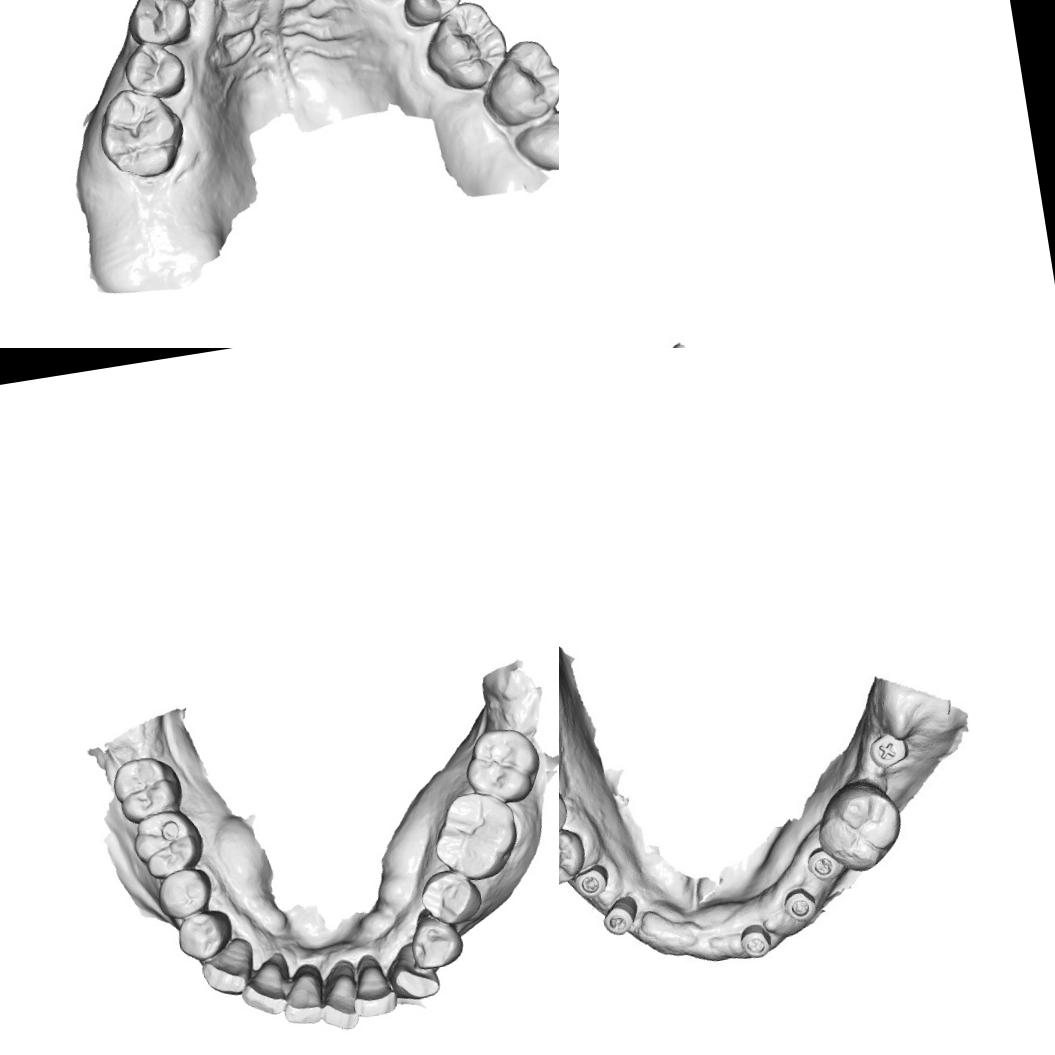canine: (381, 941, 446, 1007), (196, 934, 260, 1001)
implant: (804, 846, 846, 887), (599, 898, 638, 936), (739, 923, 774, 959), (785, 888, 815, 922), (577, 868, 607, 896)
implant_plus: (868, 731, 911, 773)
incisor: (345, 953, 402, 1022), (236, 953, 292, 1020), (314, 963, 365, 1035), (276, 966, 328, 1028)
molar: (424, 782, 526, 889), (90, 79, 192, 184), (814, 775, 906, 877), (417, 0, 513, 97), (456, 720, 548, 810), (475, 33, 559, 130), (127, 808, 208, 883), (107, 751, 187, 826), (508, 103, 559, 179)
premolar: (414, 864, 488, 932), (120, 36, 189, 104), (171, 904, 239, 966), (406, 912, 467, 974), (122, 0, 195, 51), (154, 864, 218, 922), (396, 0, 467, 30), (559, 825, 589, 891)
